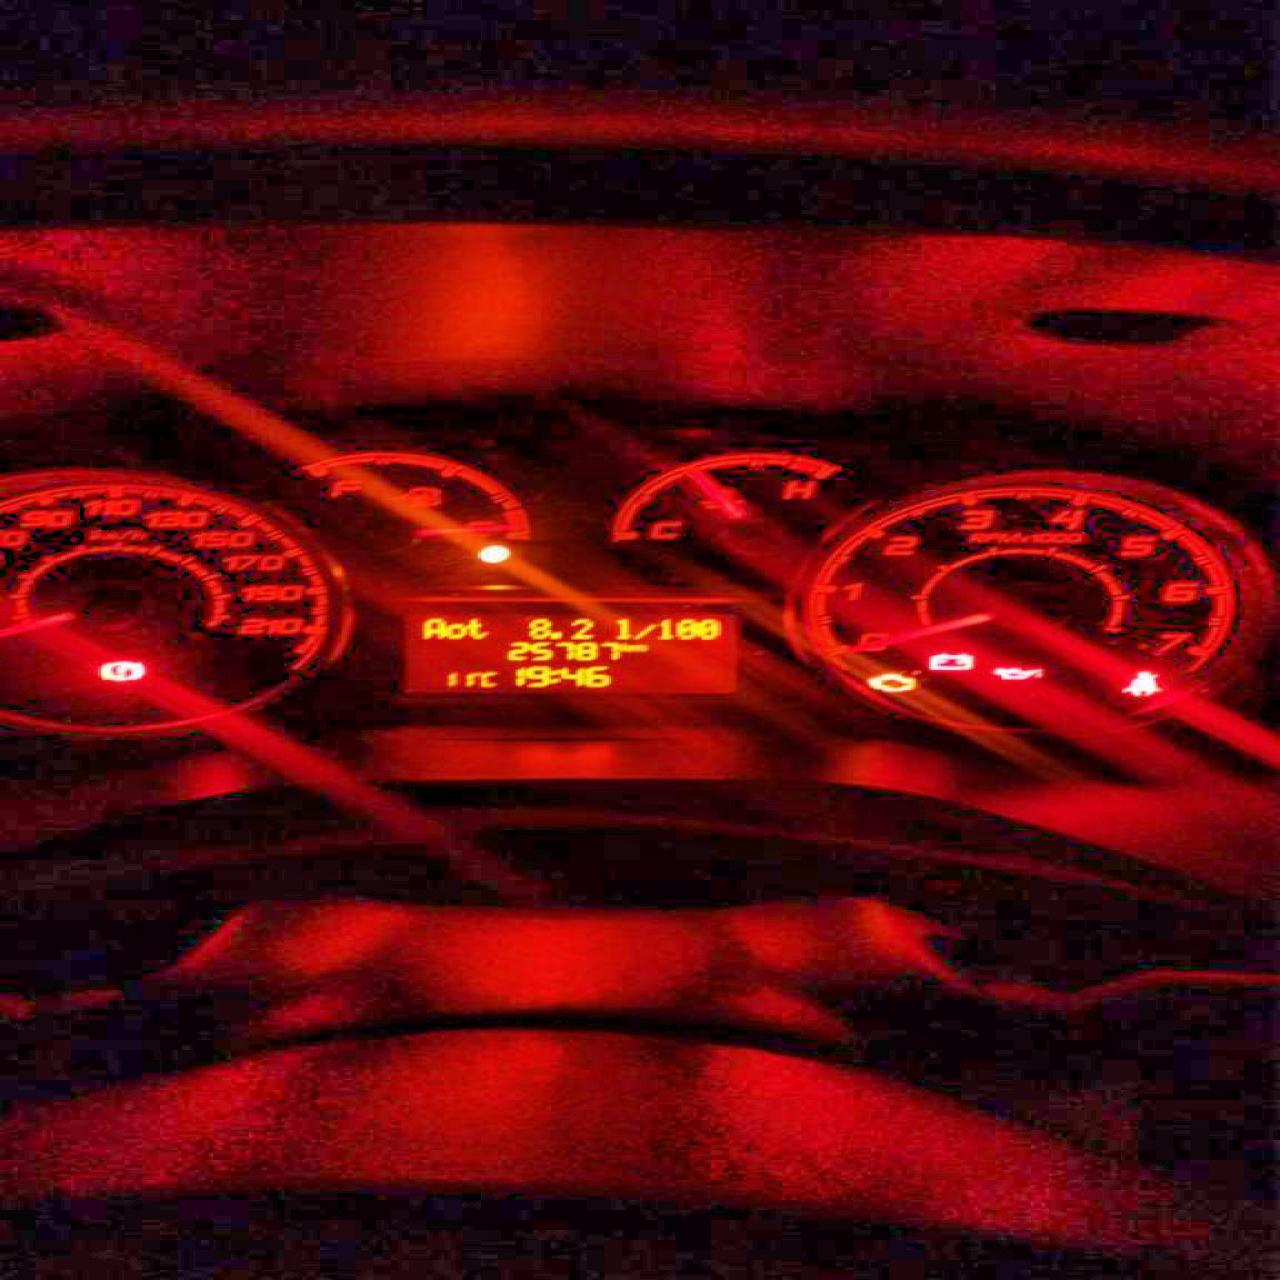-: (549, 629, 563, 639)
0: (673, 618, 697, 640), (695, 618, 717, 639)
1: (655, 618, 672, 639), (511, 665, 525, 686), (444, 672, 458, 688), (462, 672, 476, 687)
2: (567, 618, 593, 639), (502, 640, 529, 660)
4: (558, 666, 584, 686)
5: (529, 640, 551, 660)
6: (583, 663, 611, 688)
7: (553, 640, 576, 659), (598, 641, 620, 659)
8: (526, 618, 551, 639), (573, 640, 598, 660)
9: (524, 663, 549, 686)
X: (420, 617, 444, 640), (464, 615, 486, 640), (628, 621, 655, 639), (444, 621, 467, 639), (613, 618, 631, 639), (477, 670, 496, 686), (546, 668, 558, 683)
odometer: (396, 608, 742, 697)
